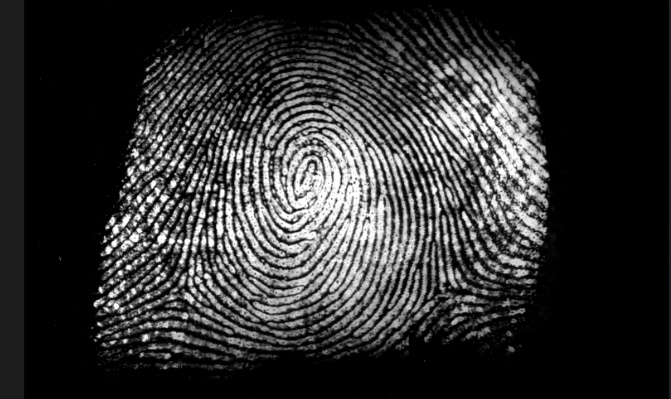deltas: (420, 241, 487, 323), (157, 259, 210, 318)
nucleo: (279, 138, 335, 220)
